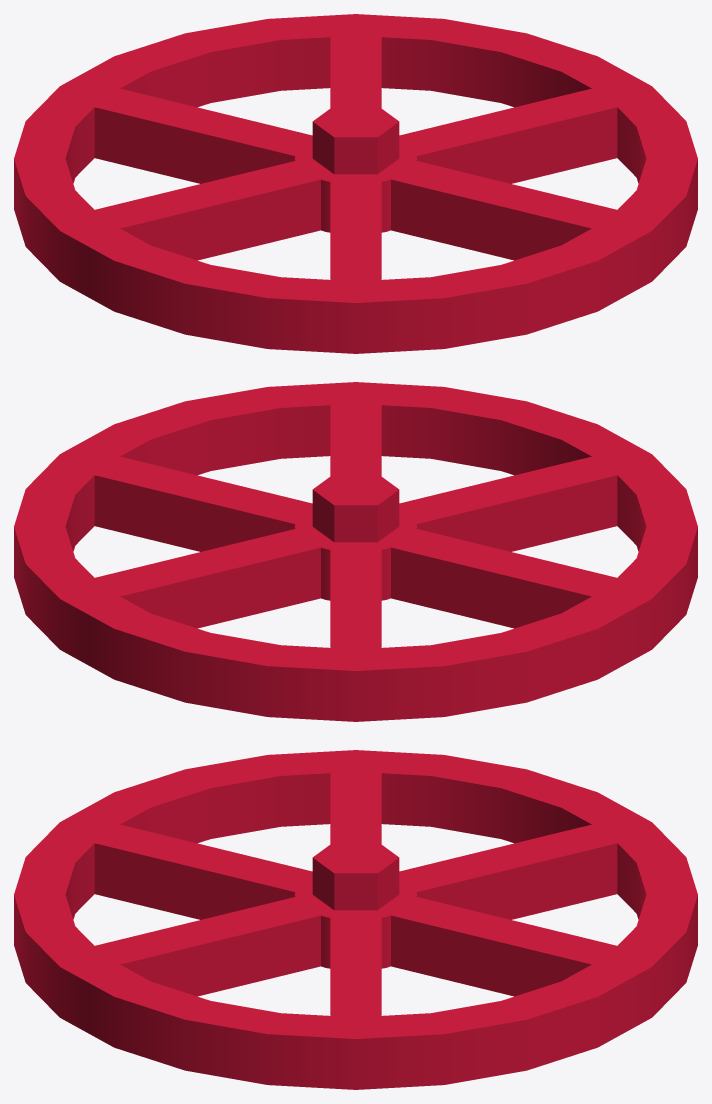
File: pp02-valves-02.dae
The picture shows the model from 3 angles, top to bottom: view 1: azimuth 30°, elevation 25°; view 2: azimuth 150°, elevation 25°; view 3: azimuth 270°, elevation 25°; orthographic projection.
Visible parts, largest first — view 1: group_0 (×8); view 2: group_0 (×8); view 3: group_0 (×8).
Part boxes in pixels (<box>): group_0 (×8): <box>14,14,697,353</box>; group_0 (×8): <box>14,382,697,721</box>; group_0 (×8): <box>14,750,697,1089</box>.
Size of the model in its own units: 7.79 by 7.79 by 1.1.
